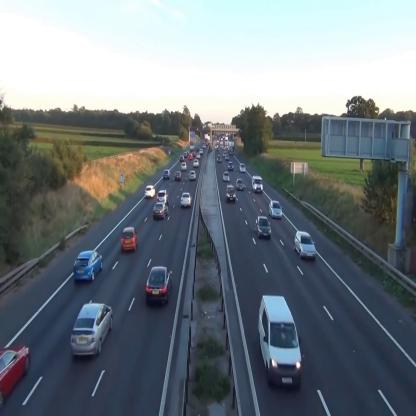car: (71, 302, 114, 358), (1, 344, 32, 411), (145, 267, 173, 308), (73, 250, 103, 282), (294, 231, 317, 264), (121, 226, 137, 252), (255, 216, 272, 240), (153, 201, 169, 223), (269, 199, 283, 221), (180, 192, 192, 210), (156, 189, 169, 205), (226, 185, 237, 203), (145, 184, 155, 200), (236, 178, 244, 191), (189, 170, 196, 182), (223, 170, 230, 182), (163, 169, 171, 179), (174, 171, 182, 181), (180, 161, 188, 171), (239, 162, 246, 173), (193, 158, 199, 168), (228, 160, 234, 170), (216, 154, 222, 163)
lorry: (258, 294, 303, 392), (251, 174, 264, 194)
